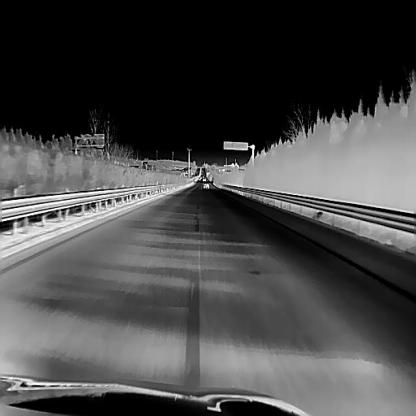car: (202, 180, 209, 188)
